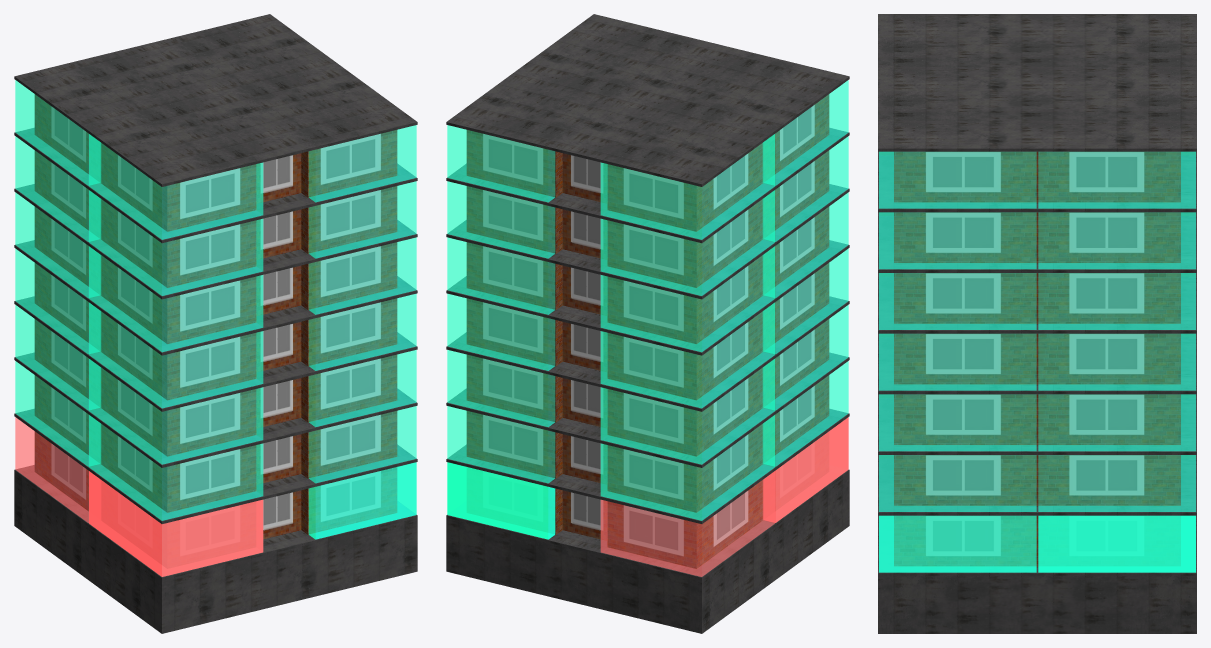
File: building.glb
The picture shows the model from 3 angles, left to right: view 1: azimuth 30°, elevation 25°; view 2: azimuth 150°, elevation 25°; view 3: azimuth 270°, elevation 25°; orthographic projection. The views are drawn at different scales.
Visible parts, largest first — view 1: Roof, Basement, SelectionBox.004, SelectionBox.012, SelectionBox.016, SelectionBox.008, SelectionBox.020, SelectionBox.028, SelectionBox.024, Flat.024, Flat.016, Flat.020 (+45 smaller); view 2: Roof, Basement, SelectionBox.011, SelectionBox.015, SelectionBox.007, SelectionBox.019, SelectionBox.027, SelectionBox.023, SelectionBox.003, Flat.023, Flat.003, Flat.015 (+44 smaller); view 3: Roof, Basement, SelectionBox.001, SelectionBox.002, SelectionBox.009, SelectionBox.010, SelectionBox.021, SelectionBox.022, SelectionBox.013, SelectionBox.014, SelectionBox.025, SelectionBox.026 (+24 smaller).
Part boxes in pixels (<box>): Roof: <box>14,14,417,186</box>; Basement: <box>14,472,417,633</box>; SelectionBox.004: <box>89,471,263,576</box>; SelectionBox.012: <box>89,359,263,464</box>; SelectionBox.016: <box>89,302,263,408</box>; SelectionBox.008: <box>89,415,263,520</box>; SelectionBox.020: <box>89,246,263,352</box>; SelectionBox.028: <box>89,134,263,239</box>; SelectionBox.024: <box>89,190,263,295</box>; Flat.024: <box>101,199,256,287</box>; Flat.016: <box>101,311,256,400</box>; Flat.020: <box>101,255,256,343</box>; Roof: <box>446,14,849,186</box>; Basement: <box>446,472,849,633</box>; SelectionBox.011: <box>600,359,774,464</box>; SelectionBox.015: <box>600,302,774,408</box>; SelectionBox.007: <box>600,415,774,520</box>; SelectionBox.019: <box>600,246,774,352</box>; SelectionBox.027: <box>600,134,774,239</box>; SelectionBox.023: <box>600,190,774,295</box>; SelectionBox.003: <box>600,471,774,576</box>; Flat.023: <box>607,199,762,287</box>; Flat.003: <box>607,480,762,568</box>; Flat.015: <box>607,311,762,400</box>; Roof: <box>878,14,1196,151</box>; Basement: <box>878,576,1196,633</box>; SelectionBox.001: <box>879,515,1036,572</box>; SelectionBox.002: <box>1038,515,1195,572</box>; SelectionBox.009: <box>879,394,1036,451</box>; SelectionBox.010: <box>1038,394,1195,451</box>; SelectionBox.021: <box>879,212,1036,269</box>; SelectionBox.022: <box>1038,212,1195,269</box>; SelectionBox.013: <box>879,333,1036,390</box>; SelectionBox.014: <box>1038,333,1195,390</box>; SelectionBox.025: <box>879,151,1036,208</box>; SelectionBox.026: <box>1038,151,1195,208</box>.
Size of the model in its own units: 20 by 33.6 by 20.
Materials: 8 (3 with a texture image).
